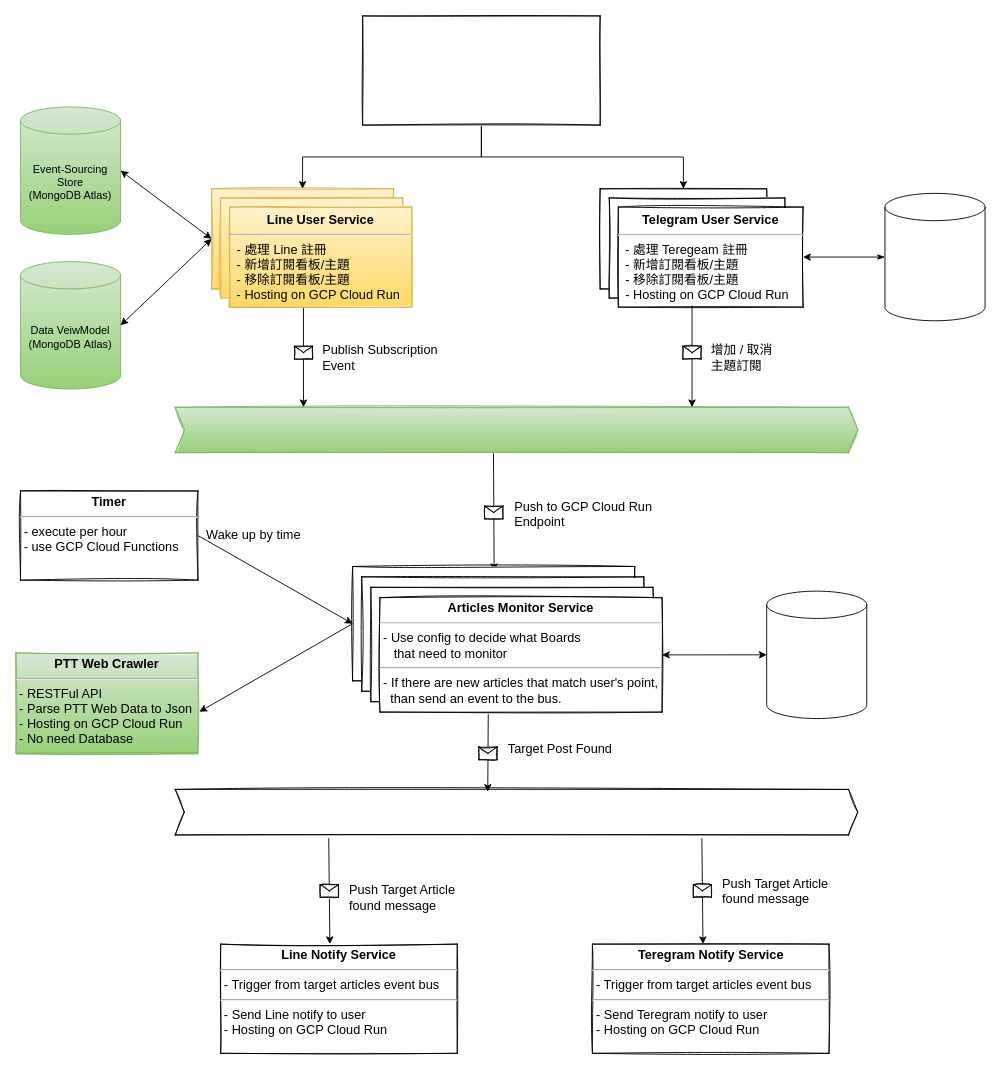
Image size: 1001x1069. Some labels were removed from this diagram. The centre of each missing label's shape, as x and y in pixels:
GCP Pub/Sub (Topic : Target Post found): the point at 516,812
GCP Pub/Sub (Topic : User subscription event): the point at 516,429
Store what key word need to publish Event: the point at 816,654
Web App - Maybe React.js or Flutter - Hosting on Github.io: the point at 481,70
